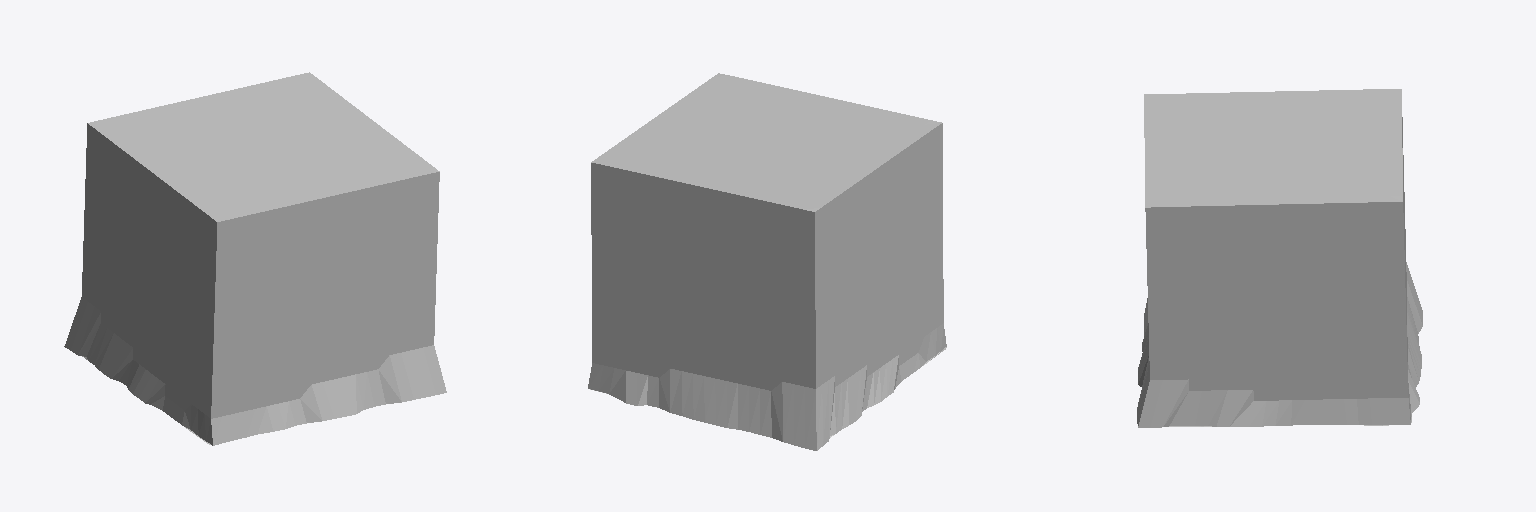
Rendered from mod0070.obj.
3 views of the same model, side by side, from view 1: azimuth 30°, elevation 25°; view 2: azimuth 150°, elevation 25°; view 3: azimuth 270°, elevation 25° (orthographic).
Visible parts, largest first — view 1: Box001; view 2: Box001; view 3: Box001.
Part boxes in pixels (left/top/right/bottom): Box001: left=64, top=72, right=446, bottom=445; Box001: left=588, top=73, right=946, bottom=450; Box001: left=1137, top=89, right=1422, bottom=427.
Bounding box in the file's own units: 0.5799 × 0.5282 × 0.5979.